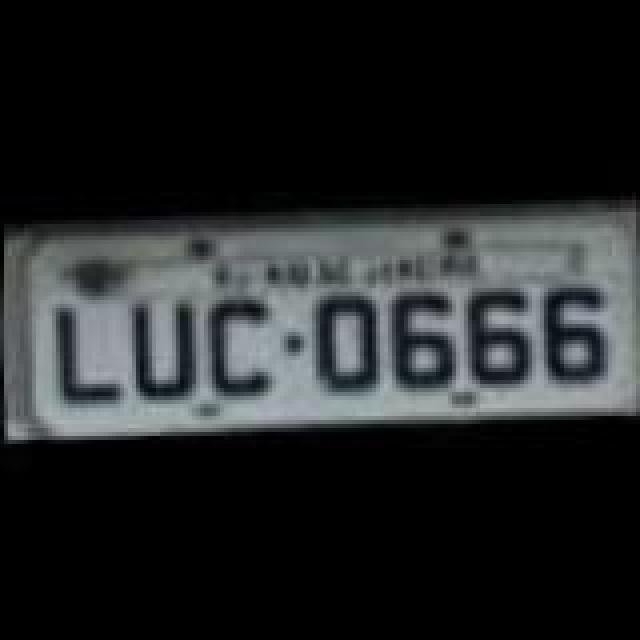6: (380, 284, 468, 392), (454, 280, 538, 392), (532, 276, 612, 388)
C: (196, 292, 280, 404)
L: (48, 294, 124, 410)
O: (302, 286, 386, 398)
U: (122, 290, 202, 402)
